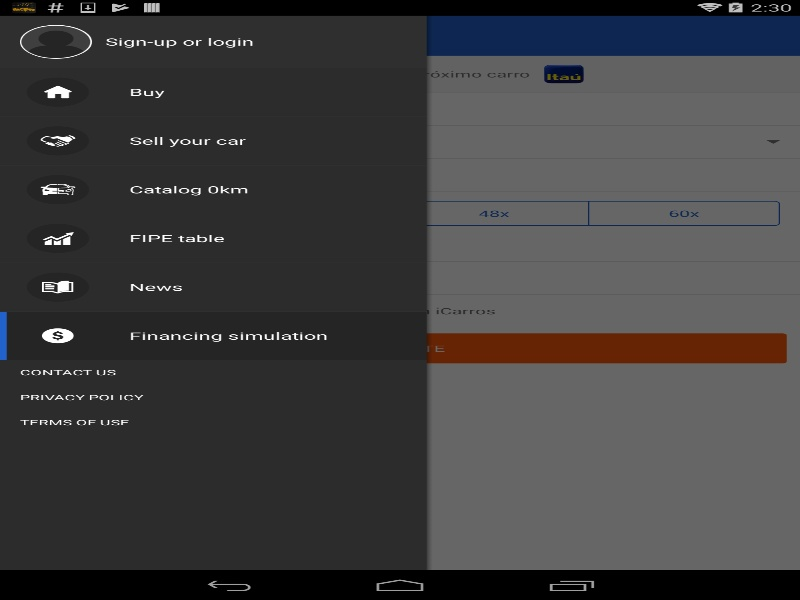Button: (13, 333, 786, 363), (0, 360, 426, 385), (0, 385, 426, 410), (0, 410, 426, 435), (10, 15, 85, 55)
Input: (86, 261, 800, 294), (85, 93, 800, 125), (86, 158, 800, 190), (86, 229, 800, 261)
